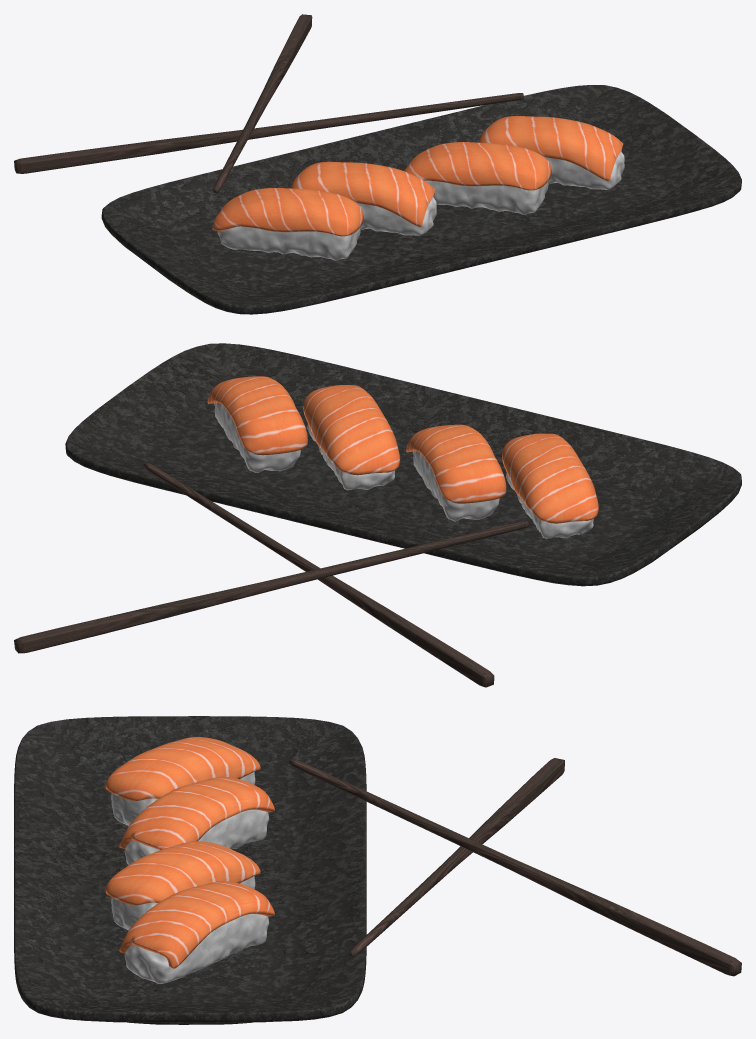
File: hero-dish.glb
The picture shows the model from 3 angles, top to bottom: view 1: azimuth 30°, elevation 25°; view 2: azimuth 150°, elevation 25°; view 3: azimuth 270°, elevation 25°; orthographic projection. The views are drawn at different scales.
Visible parts, largest first — view 1: Plate-material, Salmon-material (×4), Rice-material (×4), Chopstick-material; view 2: Plate-material, Salmon-material (×4), Chopstick-material, Rice-material (×4); view 3: Plate-material, Salmon-material (×4), Chopstick-material, Rice-material (×4).
Part boxes in pixels (x1,y1,x2,y2): Plate-material: (101,85,741,314); Salmon-material (×4): (212,116,623,236); Rice-material (×4): (217,151,624,260); Chopstick-material: (14,14,523,193); Plate-material: (65,343,741,586); Salmon-material (×4): (207,376,598,523); Chopstick-material: (14,462,528,687); Rice-material (×4): (214,402,593,538); Plate-material: (14,716,366,1024); Salmon-material (×4): (105,737,274,968); Chopstick-material: (289,758,741,976); Rice-material (×4): (111,772,269,983).
Size of the model in its own units: 0.2999 by 0.0394 by 0.3097.
4 materials, 4 textured.
